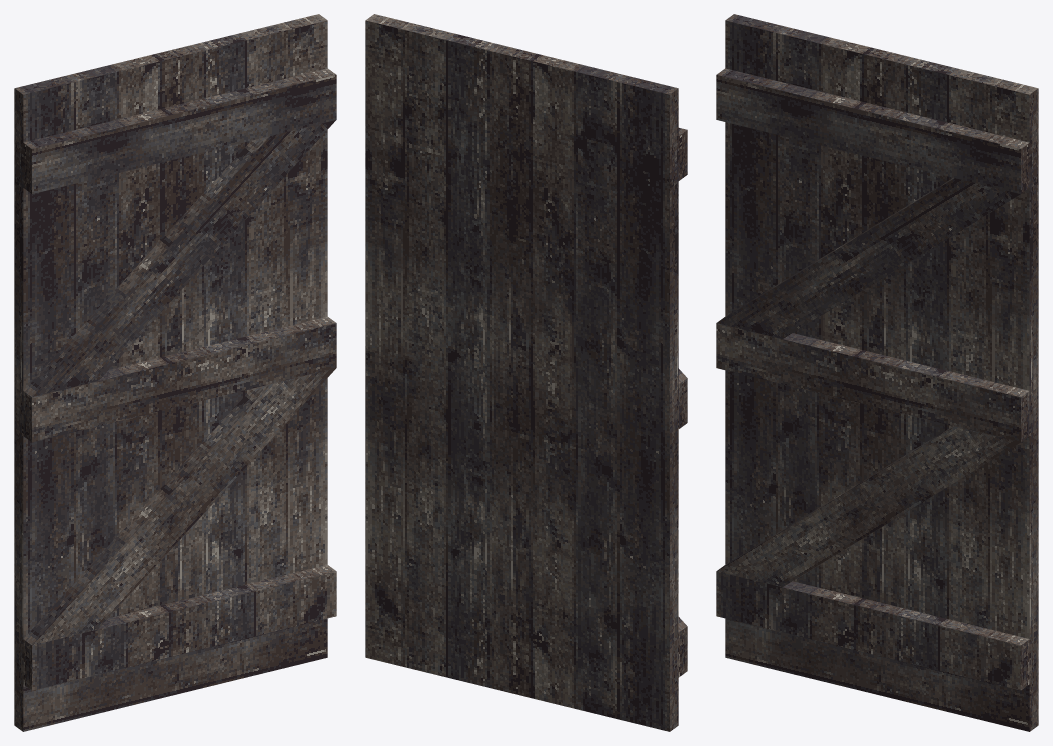
File: door.glb
The picture shows the model from 3 angles, left to right: view 1: azimuth 30°, elevation 25°; view 2: azimuth 150°, elevation 25°; view 3: azimuth 330°, elevation 25°; orthographic projection.
Visible parts, largest first — view 1: Door; view 2: Door; view 3: Door.
Boxes of the visible parts, bbox=[...] form: Door: bbox=[14, 14, 336, 731]; Door: bbox=[365, 14, 687, 731]; Door: bbox=[716, 14, 1038, 731].
Bounding box in the file's own units: 1 × 2 × 0.1.
1 material, 1 textured.
